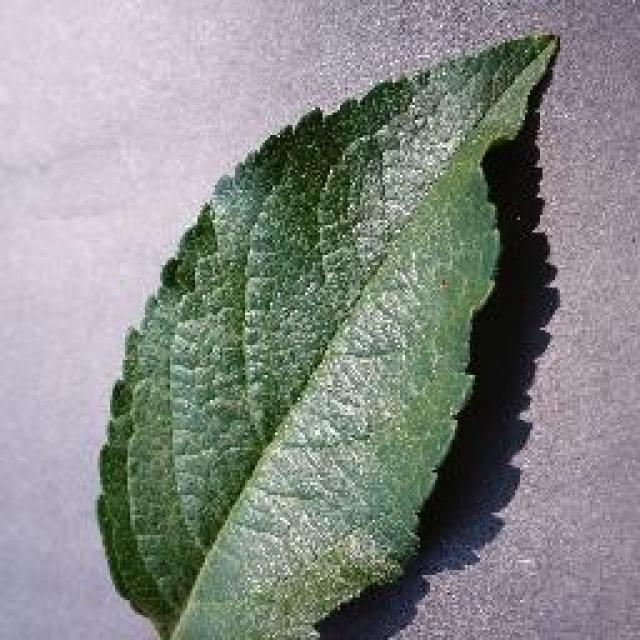apple healthy: (92, 25, 562, 637)
